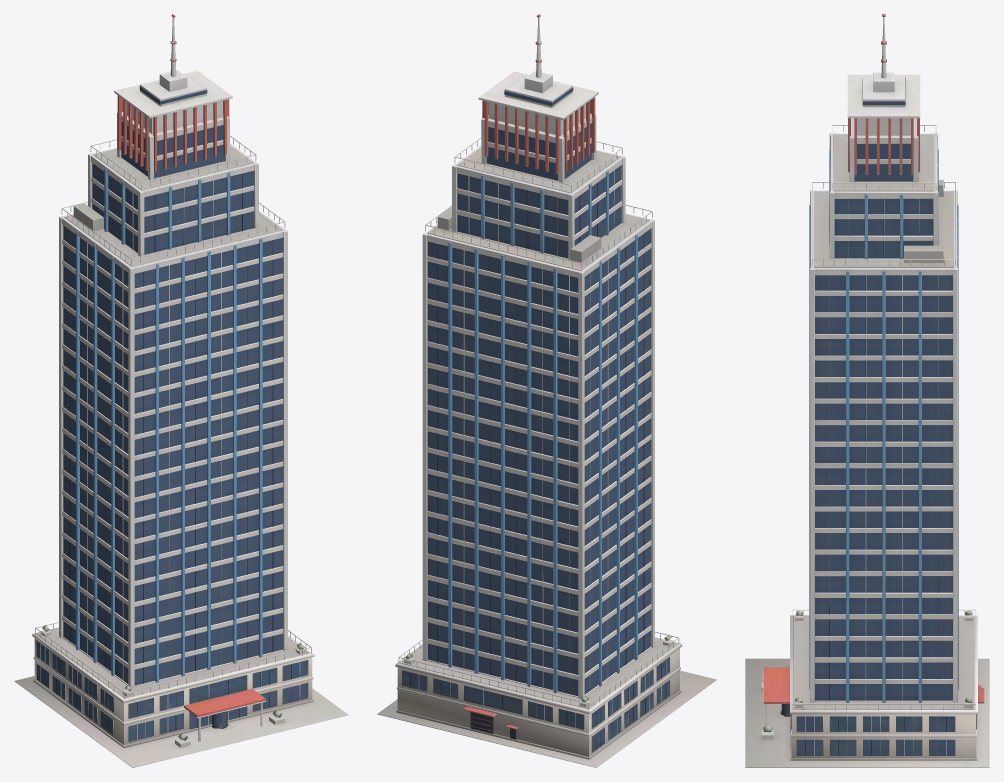
Rendered from skyscraper.glb.
3 renders of one model, left to right at view 1: azimuth 30°, elevation 25°; view 2: azimuth 150°, elevation 25°; view 3: azimuth 270°, elevation 25°, orthographic. The views are drawn at different scales.
Visible parts, largest first — view 1: skyscraper_body; view 2: skyscraper_body; view 3: skyscraper_body.
Part boxes in pixels (x1,y1,x2,y2): skyscraper_body: [14, 14, 348, 767]; skyscraper_body: [377, 14, 716, 767]; skyscraper_body: [745, 14, 989, 767].
Size of the model in its own units: 39 by 117 by 36.97.
Materials: 1 (1 with a texture image).
